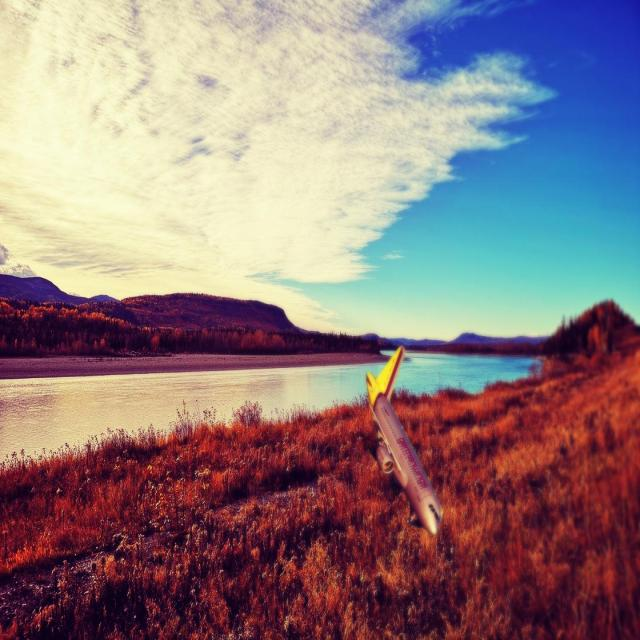airplane: (364, 344, 442, 536)
